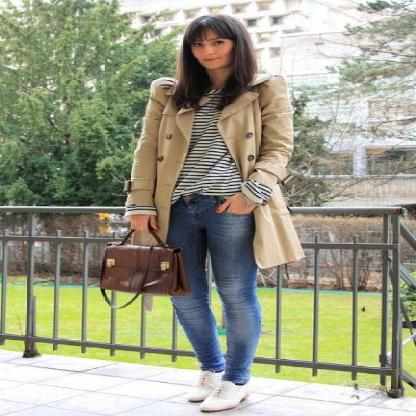bag: (88, 225, 186, 300)
jacket: (121, 58, 314, 268)
pants: (162, 189, 260, 385)
shirt: (174, 89, 240, 195)
shoe: (198, 374, 244, 407)
